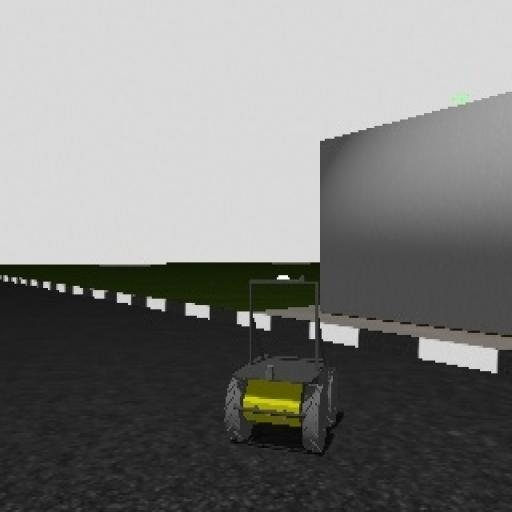huskya200: (222, 260, 344, 462)
